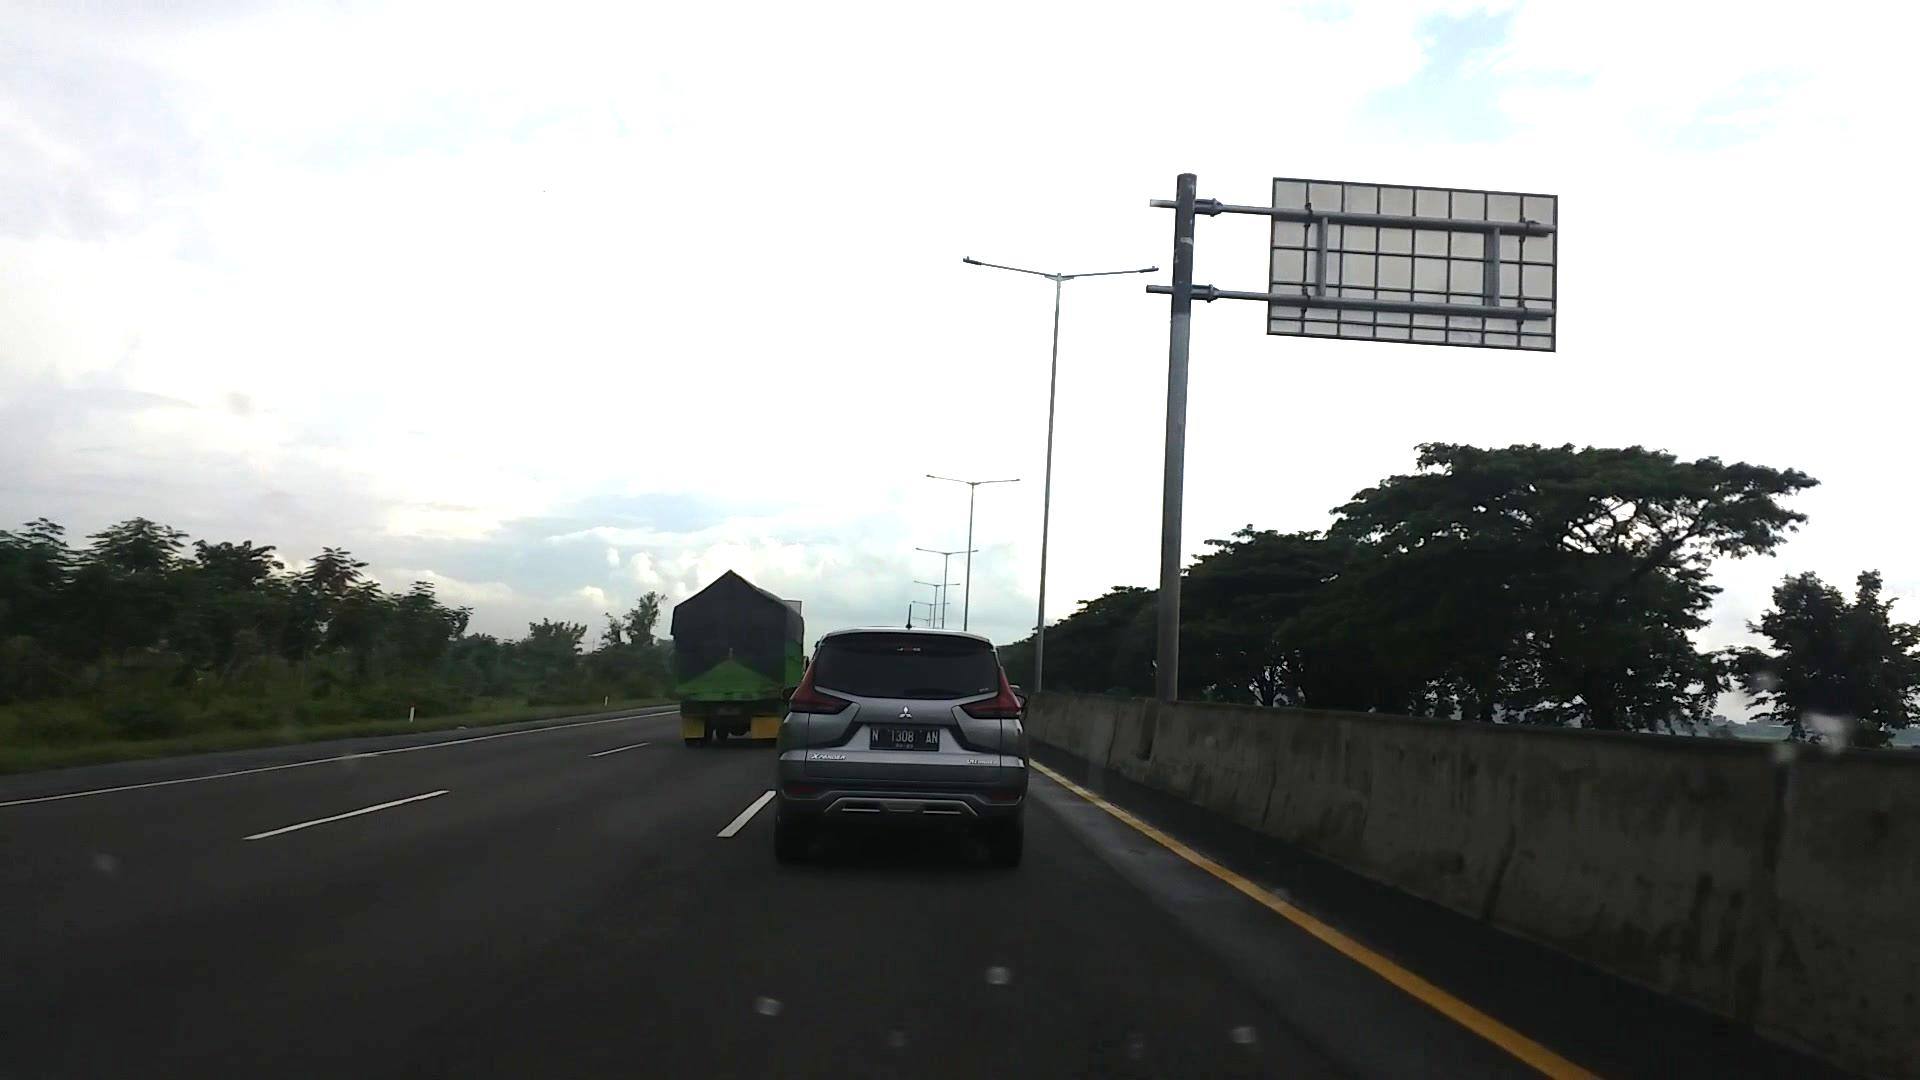plate_positive: (870, 725, 940, 752)
